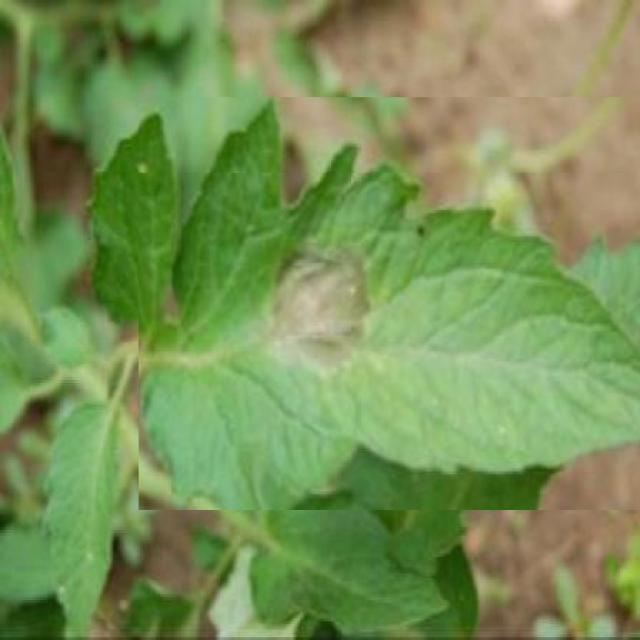Late Blight: (138, 97, 640, 510)
